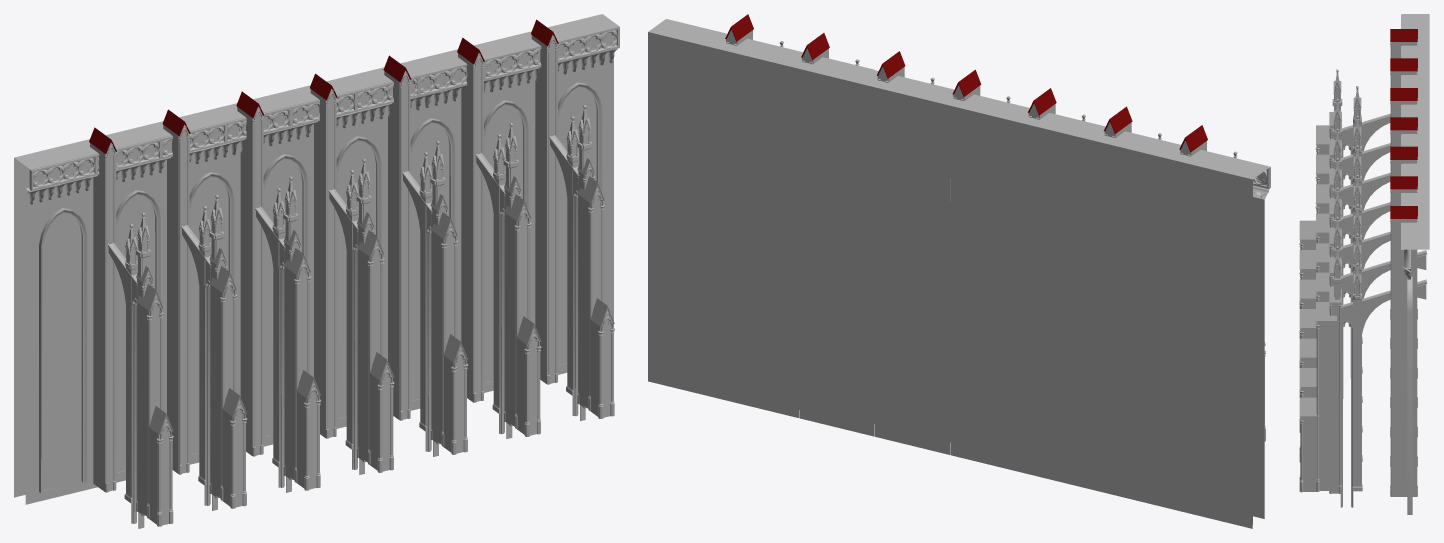
File: wall_001.glb
The picture shows the model from 3 angles, left to right: view 1: azimuth 30°, elevation 25°; view 2: azimuth 150°, elevation 25°; view 3: azimuth 270°, elevation 25°; orthographic projection. The views are drawn at different scales.
Visible parts, largest first — view 1: wall_001; view 2: wall_001; view 3: wall_001.
Part boxes in pixels (left/top/right/bottom): wall_001: left=14, top=14, right=619, bottom=528; wall_001: left=648, top=14, right=1270, bottom=528; wall_001: left=1299, top=14, right=1429, bottom=514.
Size of the model in its own units: 7.46 by 4.44 by 1.75.
